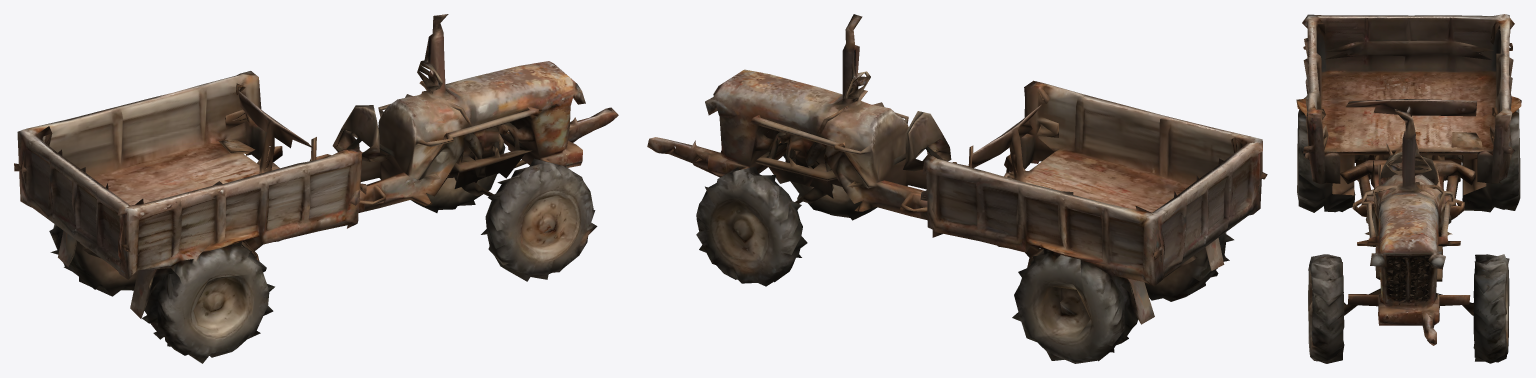
File: ul_trailer.glb
3 views of the same model, side by side, from view 1: azimuth 30°, elevation 25°; view 2: azimuth 150°, elevation 25°; view 3: azimuth 270°, elevation 25° (orthographic). The views are drawn at different scales.
Visible parts, largest first — view 1: tripo_node_931395cf-8279-4566-bc9d-42c2a4200fff; view 2: tripo_node_931395cf-8279-4566-bc9d-42c2a4200fff; view 3: tripo_node_931395cf-8279-4566-bc9d-42c2a4200fff.
Part boxes in pixels (<box>): tripo_node_931395cf-8279-4566-bc9d-42c2a4200fff: <box>14,14,618,363</box>; tripo_node_931395cf-8279-4566-bc9d-42c2a4200fff: <box>647,14,1267,363</box>; tripo_node_931395cf-8279-4566-bc9d-42c2a4200fff: <box>1296,14,1521,363</box>.
Size of the model in its own units: 1 by 0.4184 by 0.3815.
Materials: 1 (1 with a texture image).
